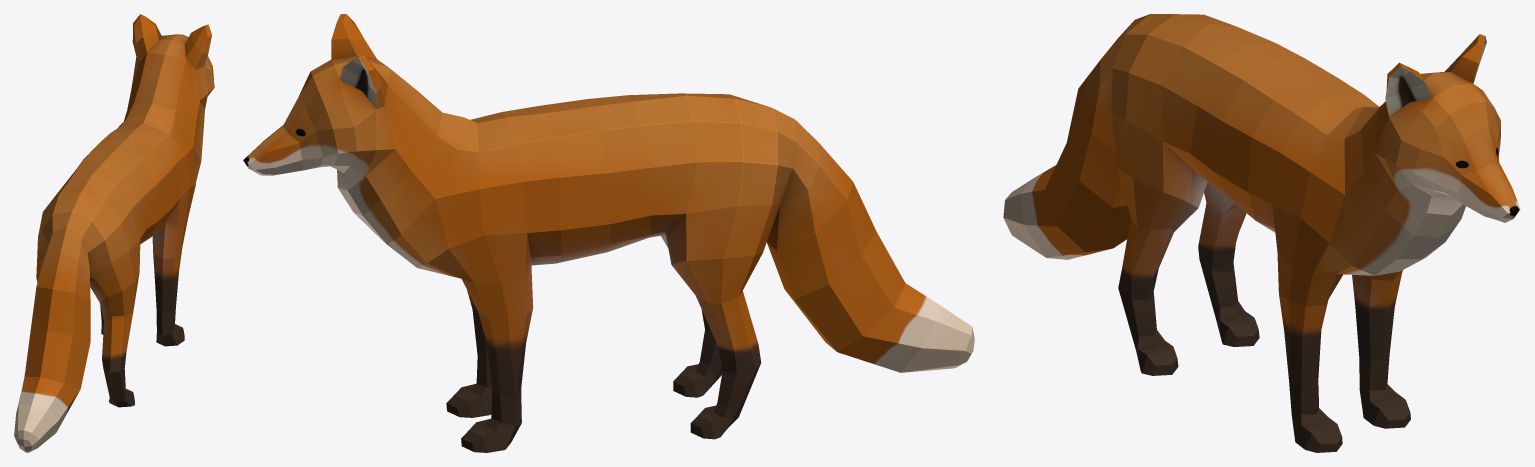
Rendered from fox_mesh.001_lev2.glb.
3 renders of one model, left to right at view 1: azimuth 30°, elevation 25°; view 2: azimuth 150°, elevation 25°; view 3: azimuth 270°, elevation 25°, orthographic. The views are drawn at different scales.
Visible parts, largest first — view 1: fox_mesh.001_lev2; view 2: fox_mesh.001_lev2; view 3: fox_mesh.001_lev2.
Part boxes in pixels (box(x1,y1,x2,y2)): fox_mesh.001_lev2: box(14, 14, 214, 452); fox_mesh.001_lev2: box(243, 14, 974, 452); fox_mesh.001_lev2: box(1003, 14, 1520, 452).
Bounding box in the file's own units: 2.54 × 1.96 × 2.16.
1 material, 1 textured.
